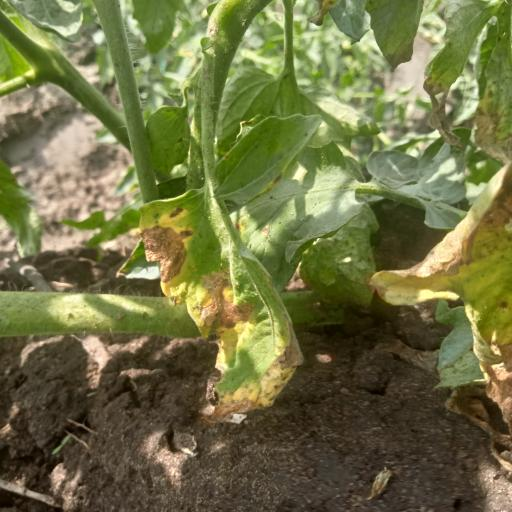Tomato_Brown_Spots: (104, 115, 321, 430)
